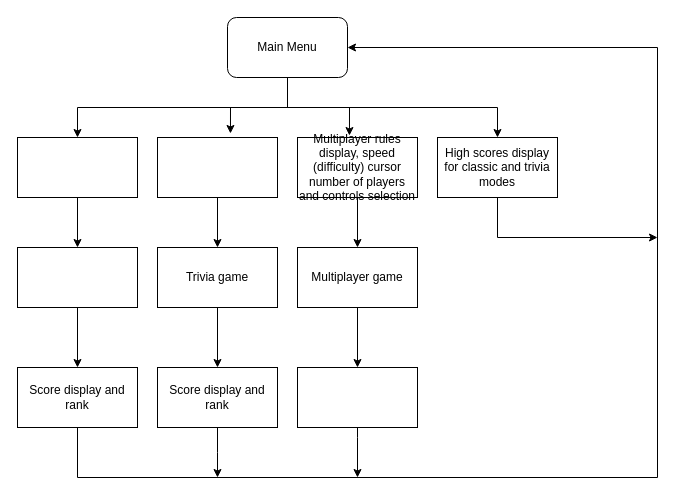
Some shapes in this 683 by 503 pixel diagram are drawn without their labels. Here are the shapes that lost their labels. From the top down, the centre of each, then its label:
At pixel 77 167: "Classic level rules display and enter name field".
At pixel 217 167: "trivia rules display and enter name field".
At pixel 77 277: "Classic game".
At pixel 357 397: "Rank display".
